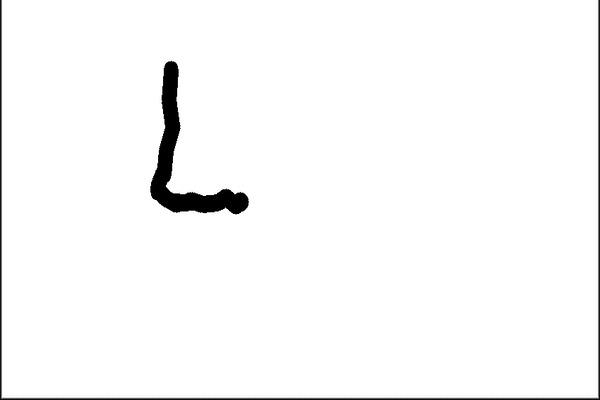L: (145, 54, 253, 219)
